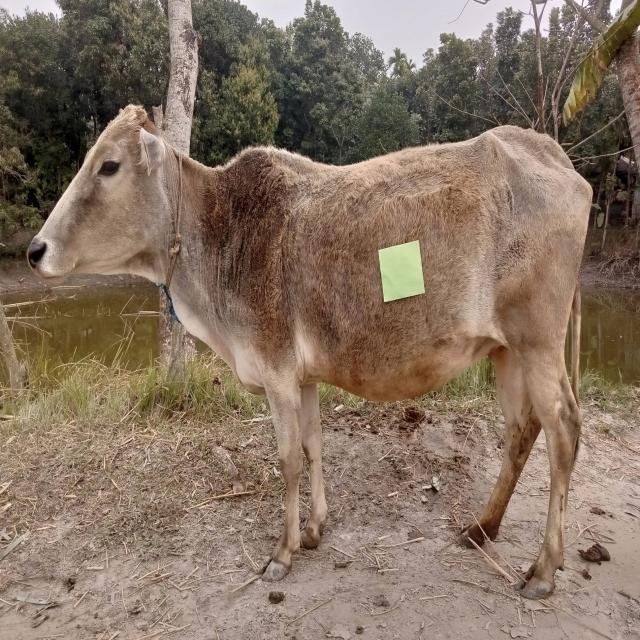badan_sapi: (266, 161, 575, 399)
sapi: (26, 101, 596, 603)
